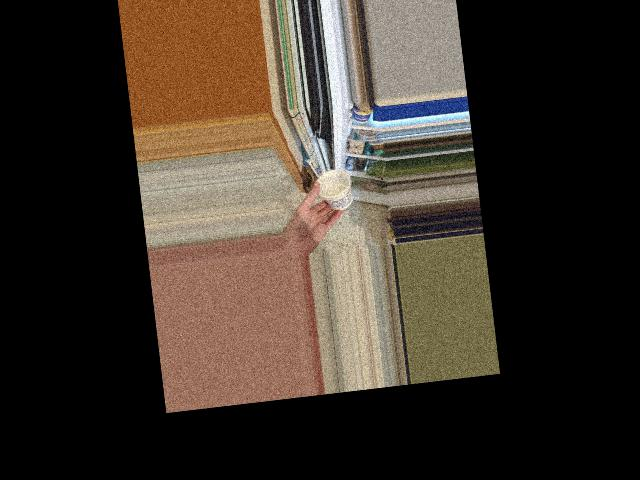cotage: (314, 173, 352, 210)
